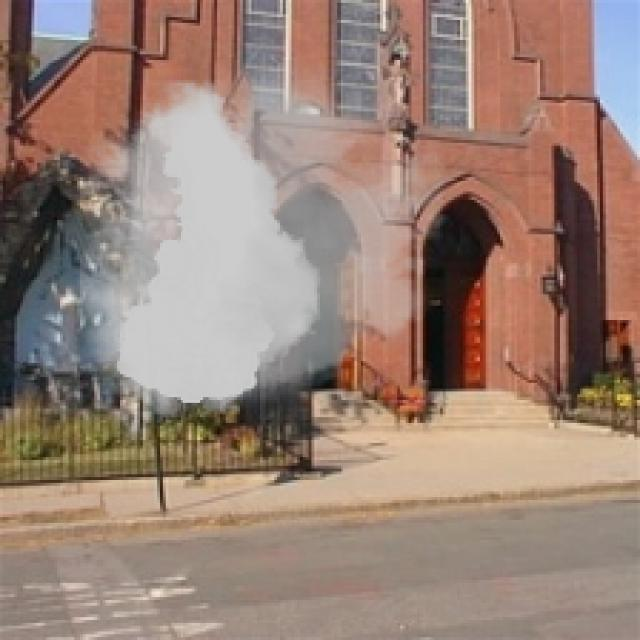smoke: (46, 57, 471, 429)
